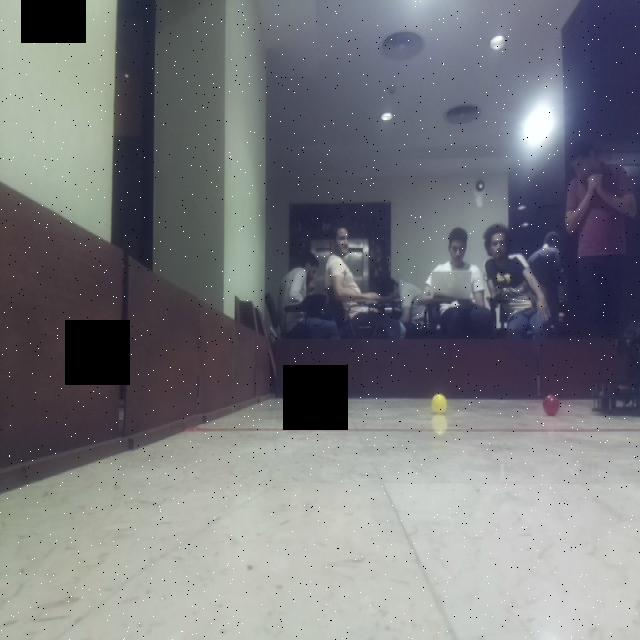ball: (539, 391, 563, 416), (427, 392, 450, 415)
